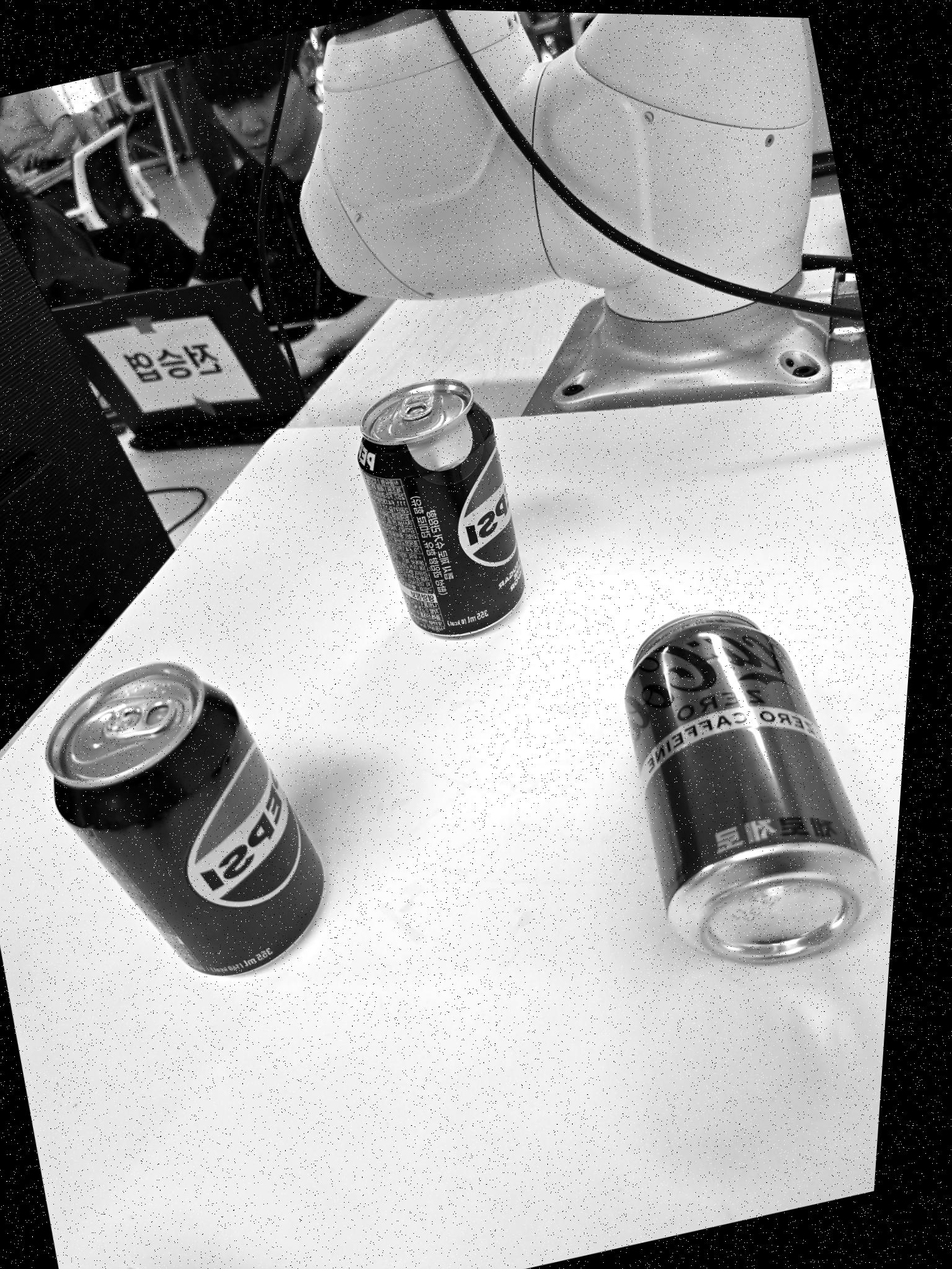can_coke_decaf: (618, 612, 878, 971)
can_pepsi: (45, 661, 332, 977)
can_pepsi_zero: (351, 376, 530, 642)
